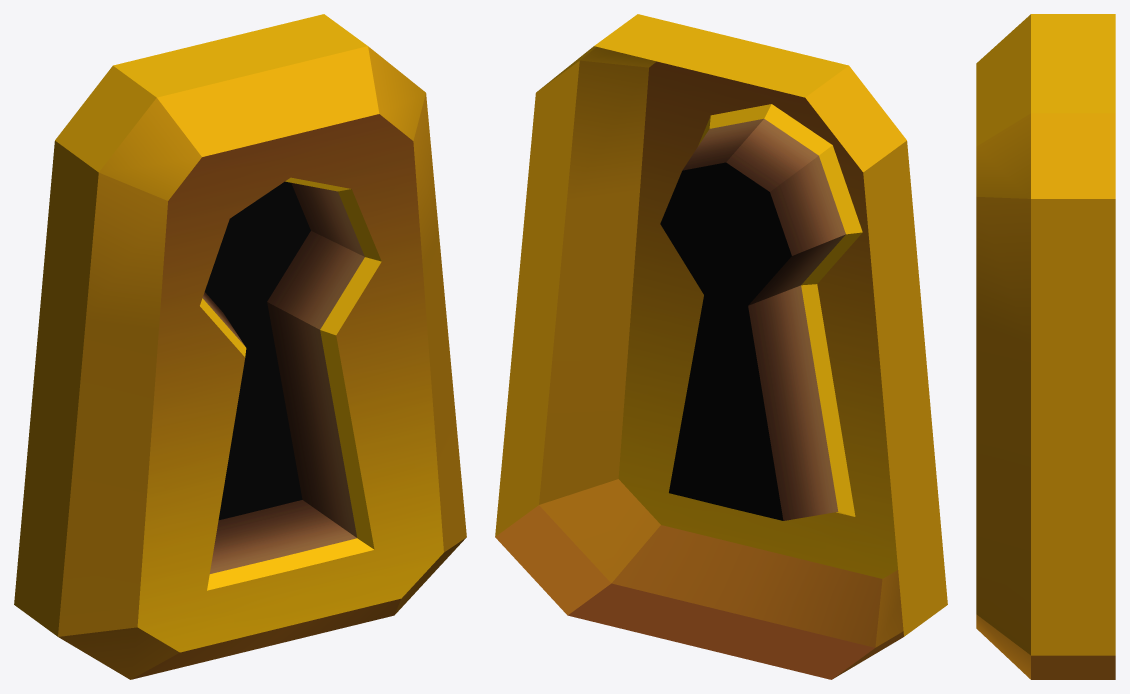
File: m_deco_lockGold.FBX
3 views of the same model, side by side, from view 1: azimuth 30°, elevation 25°; view 2: azimuth 150°, elevation 25°; view 3: azimuth 270°, elevation 25° (orthographic). The views are drawn at different scales.
Visible parts, largest first — view 1: m_deco_lockGold; view 2: m_deco_lockGold; view 3: m_deco_lockGold.
Boxes of the visible parts, left/top/right/bottom form: m_deco_lockGold: left=14, top=14, right=466, bottom=679; m_deco_lockGold: left=495, top=14, right=947, bottom=679; m_deco_lockGold: left=976, top=14, right=1115, bottom=679.
Size of the model in its own units: 0.5507 by 0.741 by 0.1684.
